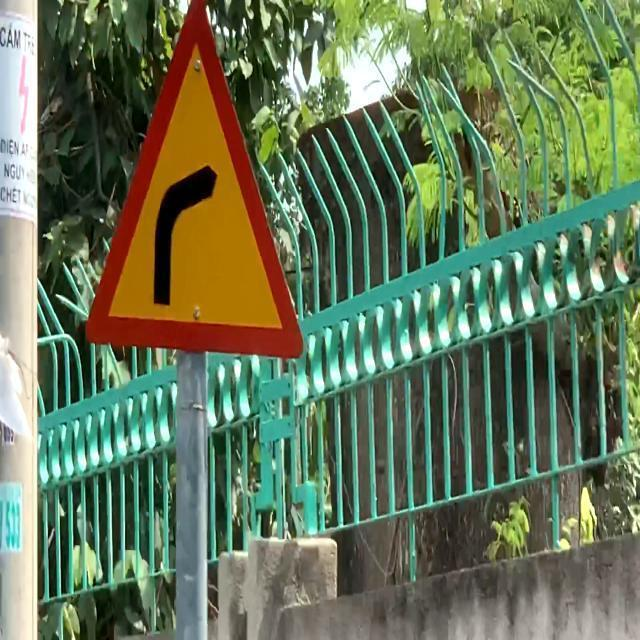201-cho-ngoat-nguy-hiem: (85, 0, 299, 358)
